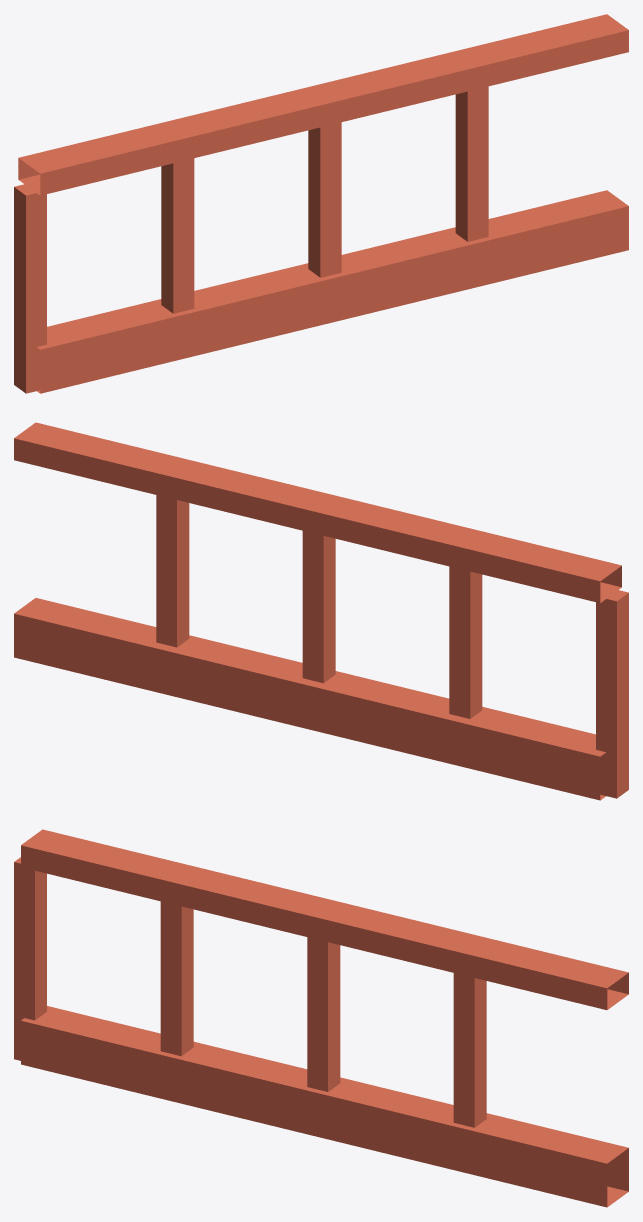
Rendered from colimacon_plat.fbx.
3 views of the same model, one above another, from view 1: azimuth 30°, elevation 25°; view 2: azimuth 150°, elevation 25°; view 3: azimuth 330°, elevation 25° (orthographic).
Parts seen in each view (by area): view 1: colimacon plat; view 2: colimacon plat; view 3: colimacon plat.
Part boxes in pixels (x1,y1,x2,y2): colimacon plat: [14, 14, 628, 393]; colimacon plat: [14, 422, 628, 800]; colimacon plat: [14, 829, 628, 1207].
Bounding box in the file's own units: 285 × 100 × 18.
